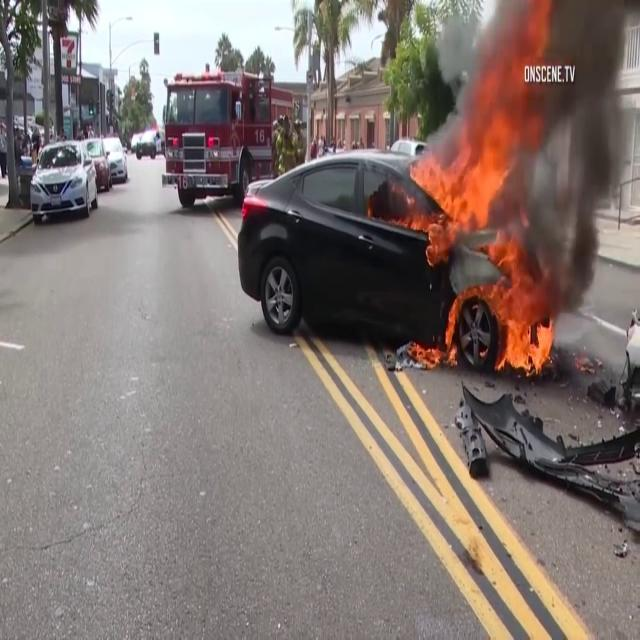Fire: (419, 132, 563, 378)
Smoke: (461, 0, 640, 279)
